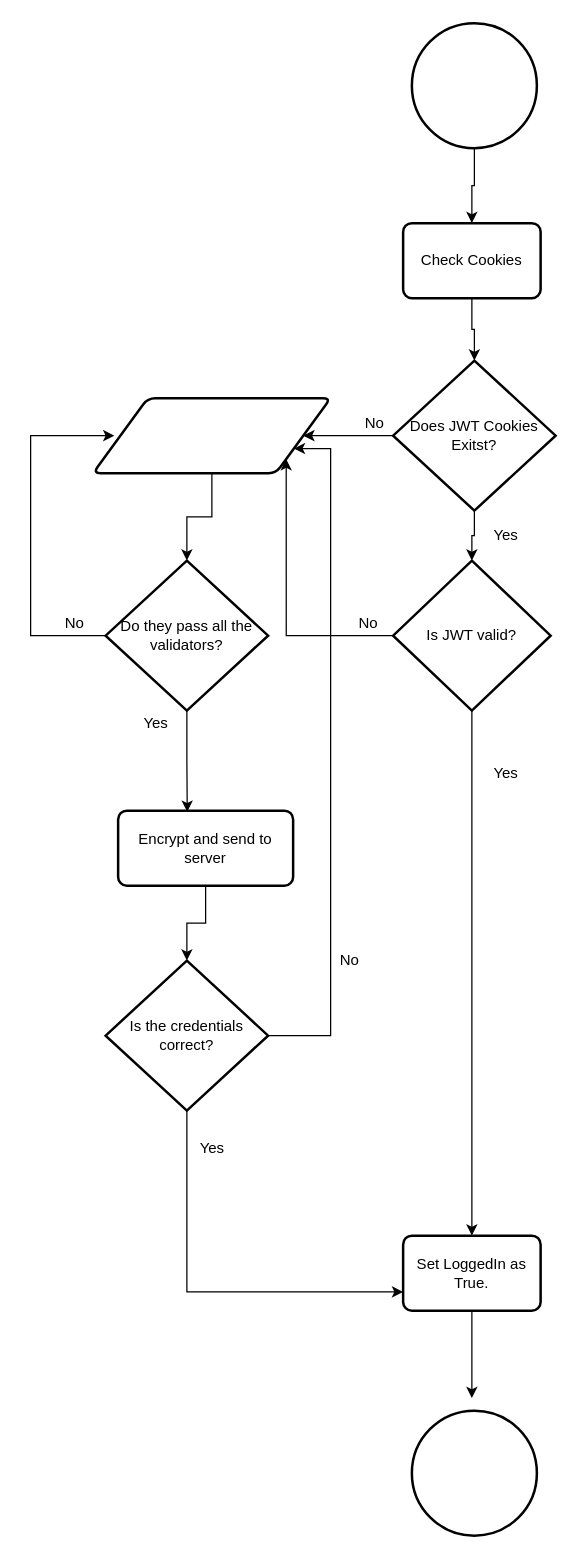
Some shapes in this 579 by 1558 pixel diagram are drawn without their labels. Here are the shapes that lost their labels. From the top down, the centre of each, then its label:
At (474,85): "Start".
At (211,435): "Enter Login Credentials".
At (474,1472): "Stop".
